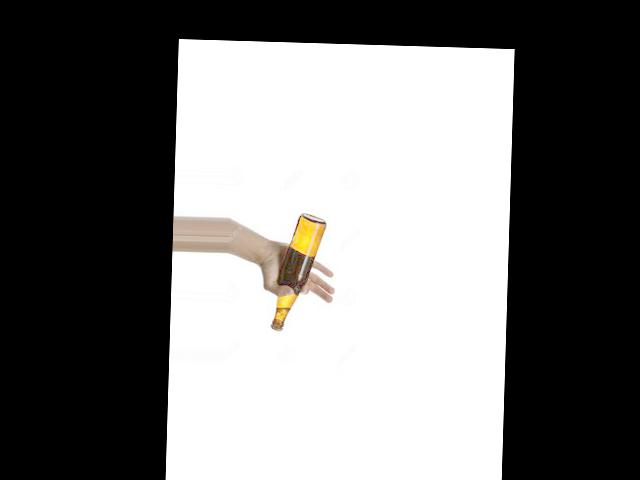beer: (272, 213, 325, 329)
